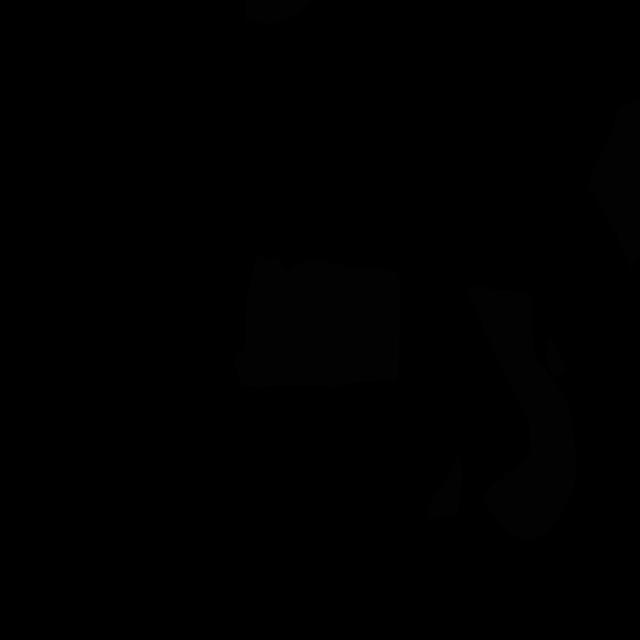cardboard: (234, 255, 400, 390), (482, 353, 577, 541), (588, 96, 640, 271), (465, 286, 535, 374), (425, 455, 463, 519), (244, 0, 310, 23), (546, 337, 566, 377)
